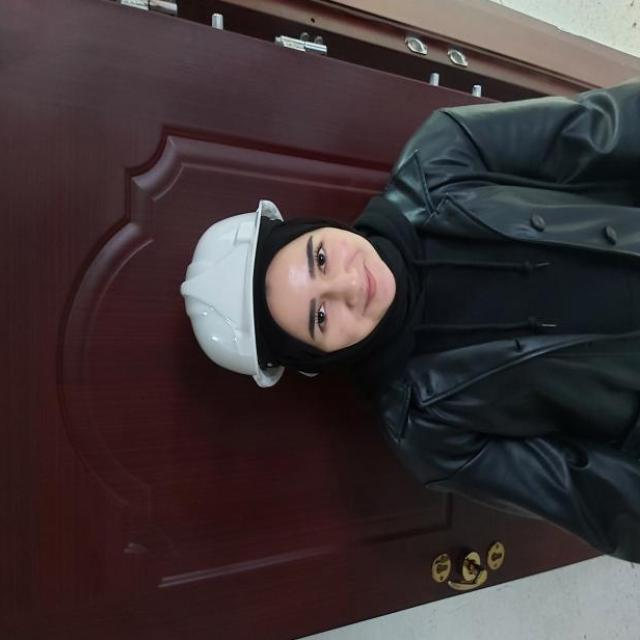helmet: (180, 198, 286, 388)
